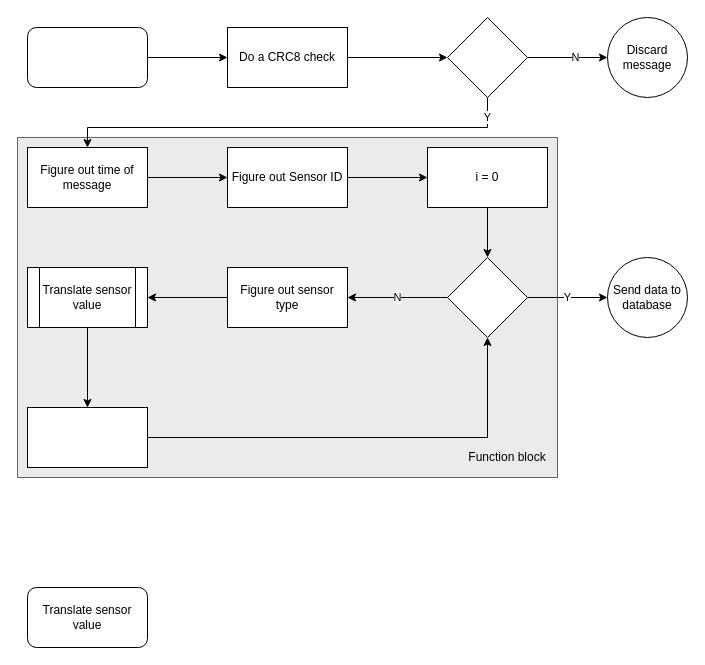
Image size: 705x665. Some labels were removed from this diagram. Here are the shapes that lost their labels. From the top down, the centre of each, then its label:
At (87,57): "Recieve message text".
At (487,57): "Check succesfull?".
At (487,297): "i = 6?".
At (87,437): "i++".
